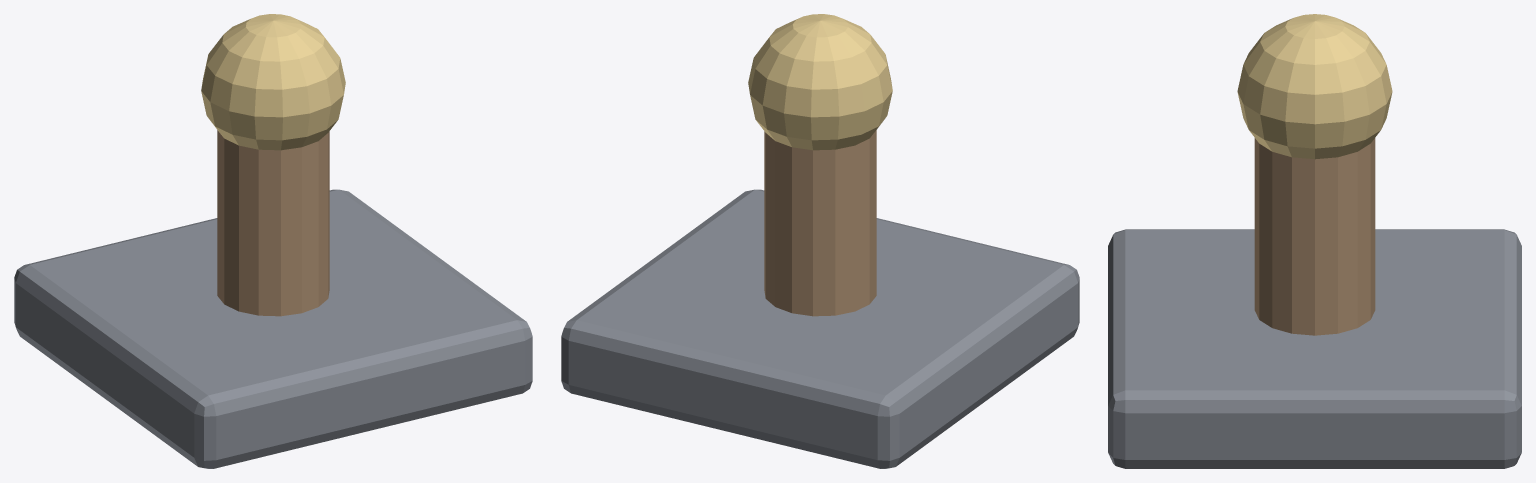
The model's file is prop_stamp.glb.
3 views of the same model, side by side, from view 1: azimuth 30°, elevation 25°; view 2: azimuth 150°, elevation 25°; view 3: azimuth 270°, elevation 25° (orthographic). The views are drawn at different scales.
Visible parts, largest first — view 1: Stamp; view 2: Stamp; view 3: Stamp.
Part boxes in pixels (box(x1,y1,x2,y2)): Stamp: box(14, 14, 532, 468); Stamp: box(561, 14, 1079, 468); Stamp: box(1108, 14, 1521, 468).
Size of the model in its own units: 0.24 by 0.235 by 0.24.
